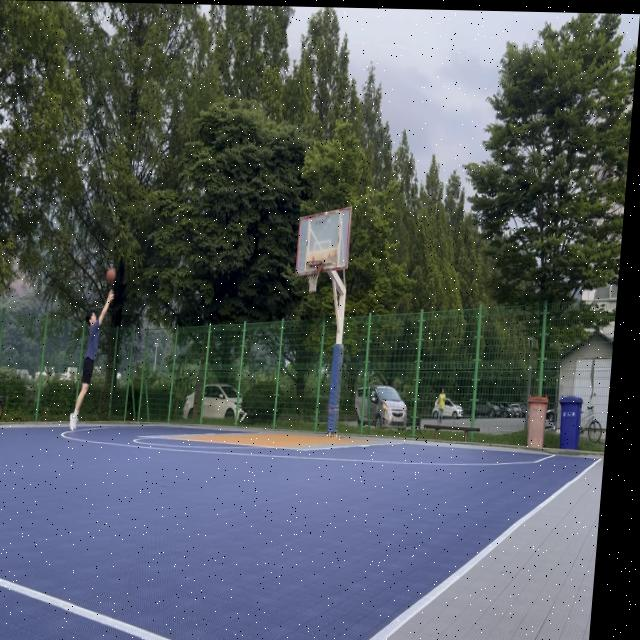basketball: (105, 266, 117, 284)
hoop: (303, 260, 323, 294)
